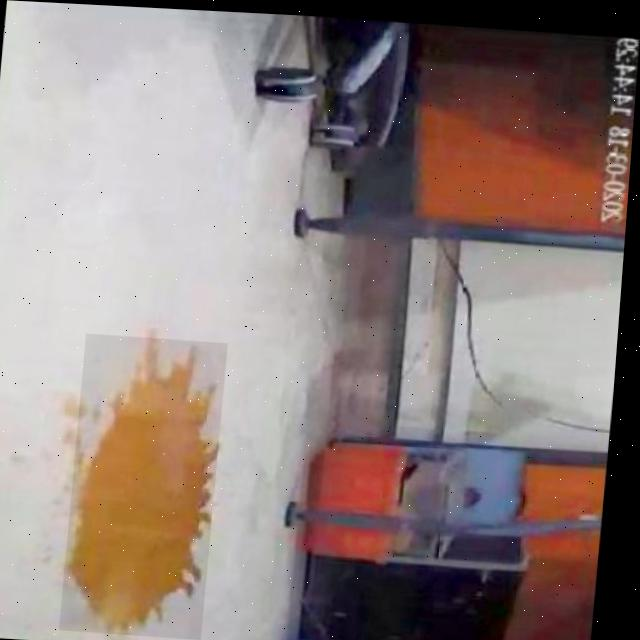spillage: (72, 337, 223, 632)
